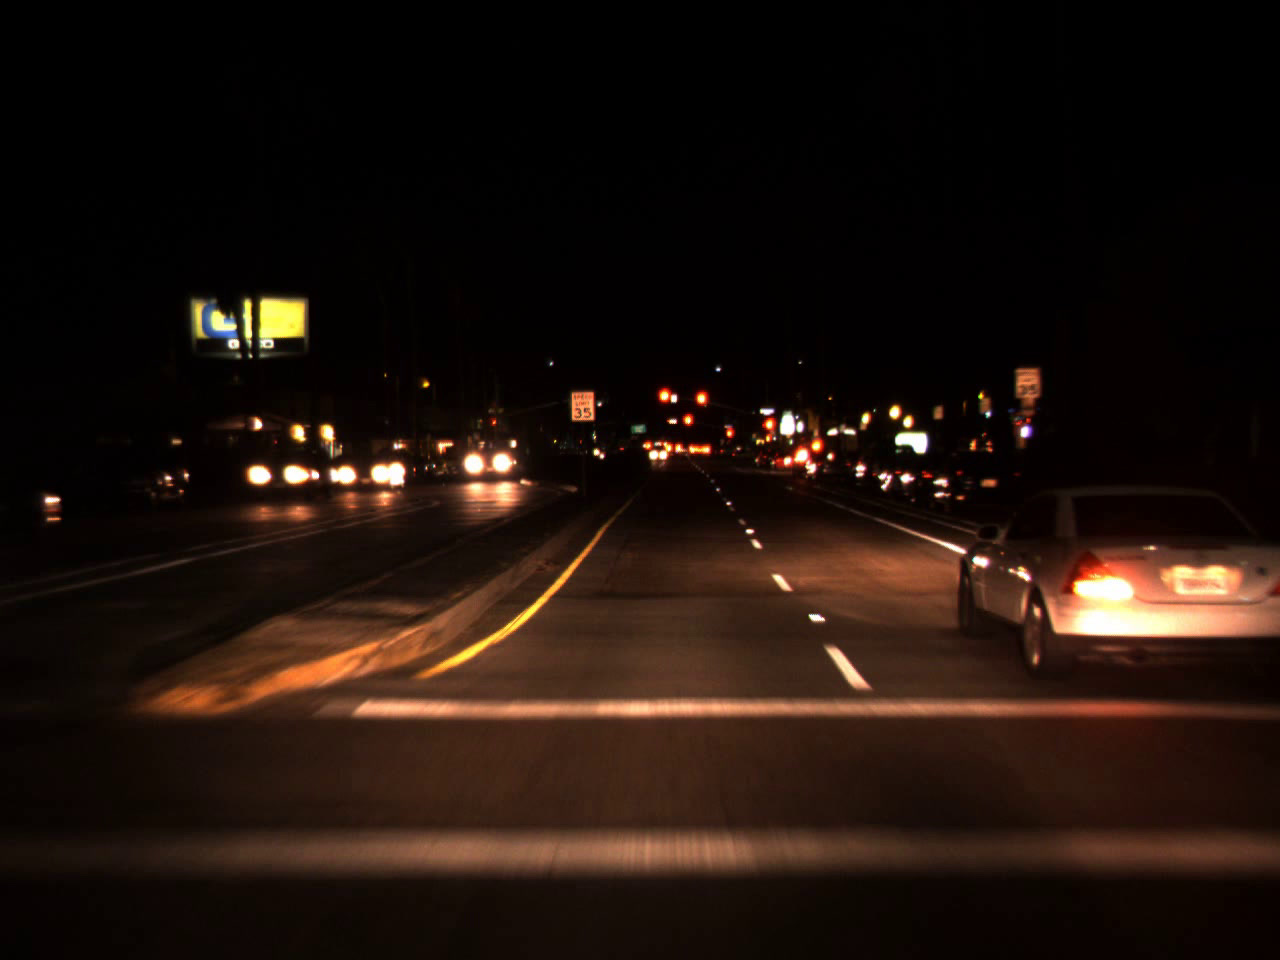stop: (655, 384, 674, 421), (759, 414, 778, 451), (694, 389, 709, 421), (681, 411, 694, 443), (725, 428, 732, 446), (491, 419, 497, 429)
